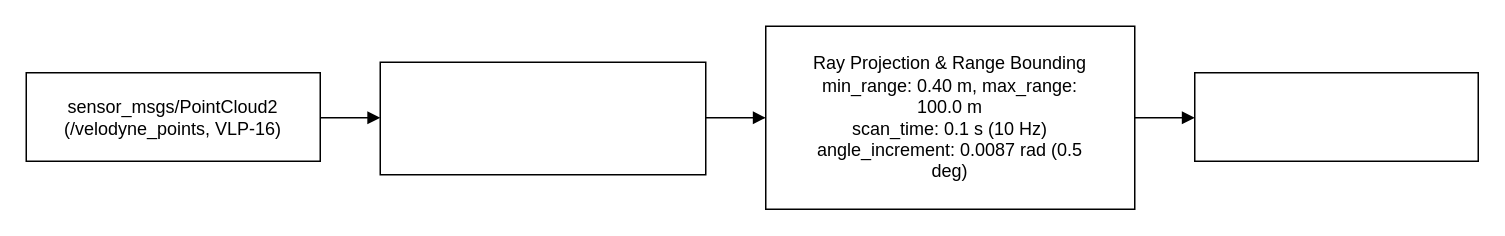
Image size: 1505x236. Some labels were removed from this diagram. Each missing label, with the box of its shape:
sensor_msgs/LaserScan (/scan, 10 Hz): (1193, 71, 1478, 161)
Z-Axis Vertical Slicing Window min_height: -0.30 m max_height: +0.30 m: (379, 61, 706, 175)
